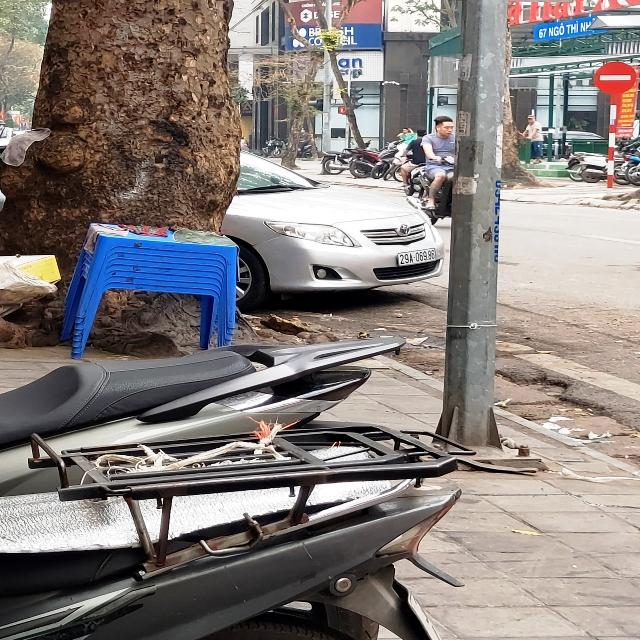license_plate: (399, 249, 438, 267)
